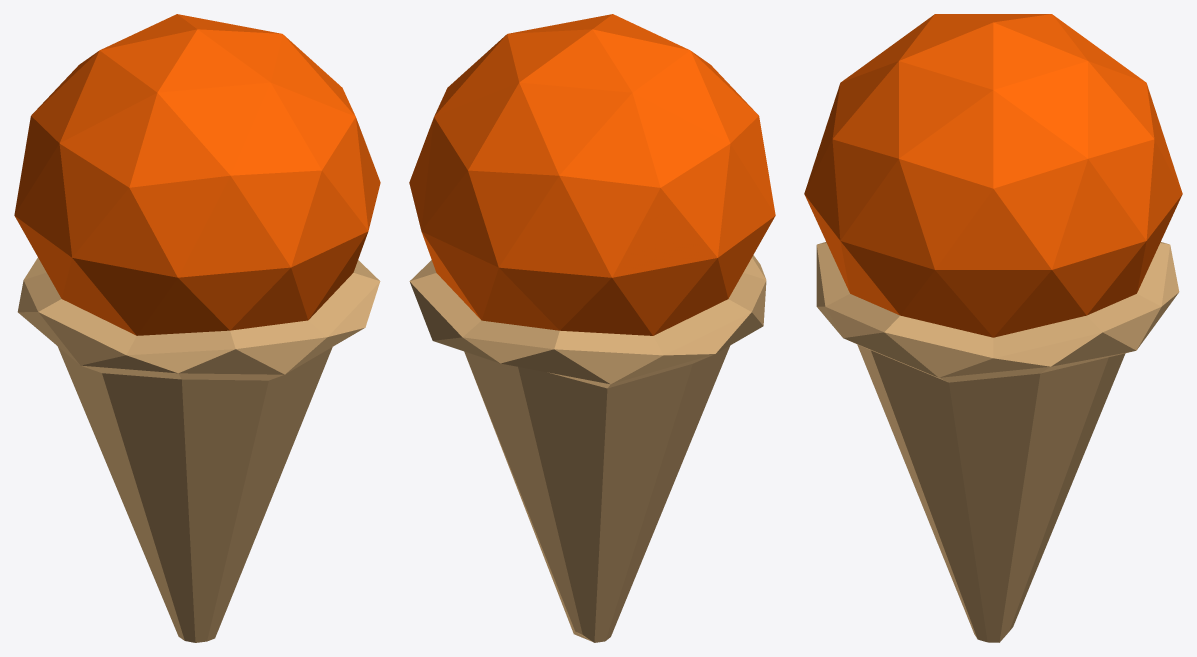
The model's file is ice_orange.fbx.
3 renders of one model, left to right at view 1: azimuth 30°, elevation 25°; view 2: azimuth 150°, elevation 25°; view 3: azimuth 270°, elevation 25°, orthographic.
Visible parts, largest first — view 1: ice_orange; view 2: ice_orange; view 3: ice_orange.
Part boxes in pixels (x1,y1,x2,y2): ice_orange: [14, 14, 380, 642]; ice_orange: [409, 14, 775, 642]; ice_orange: [804, 14, 1182, 642].
Bounding box in the file's own units: 7.33 × 13.66 × 7.59.
